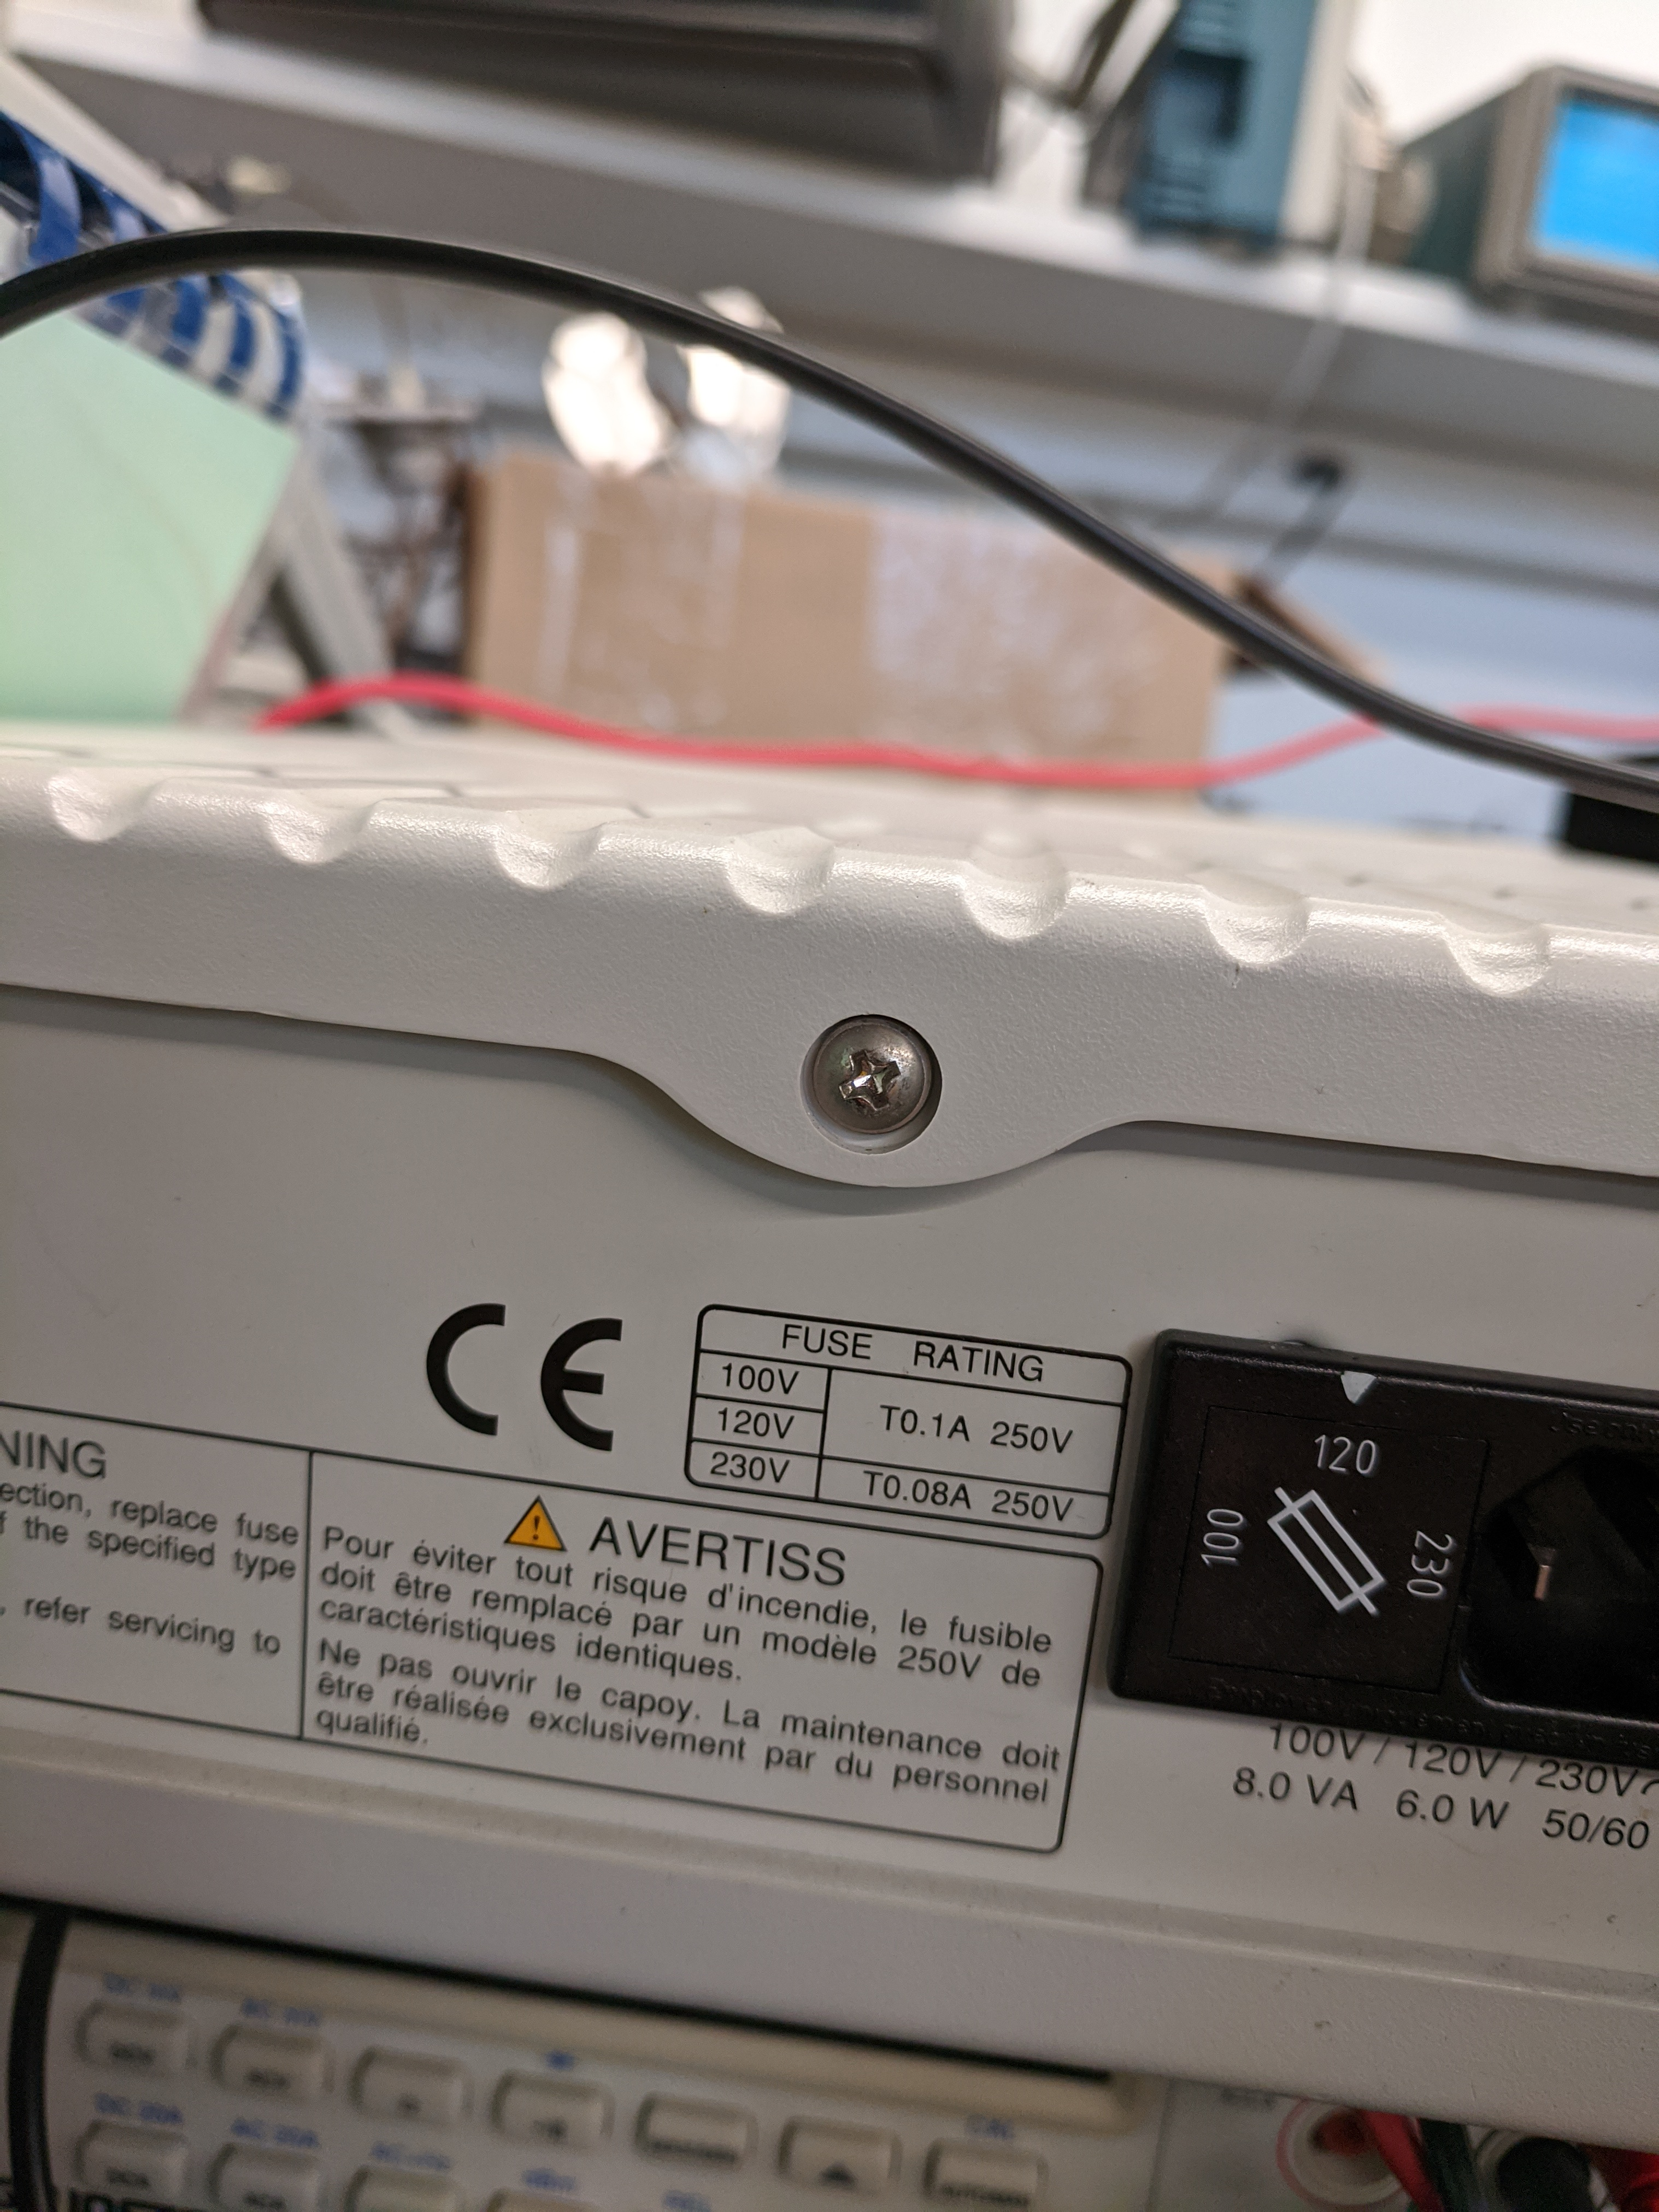cross_recessed_screw: (796, 1000, 955, 1162)
